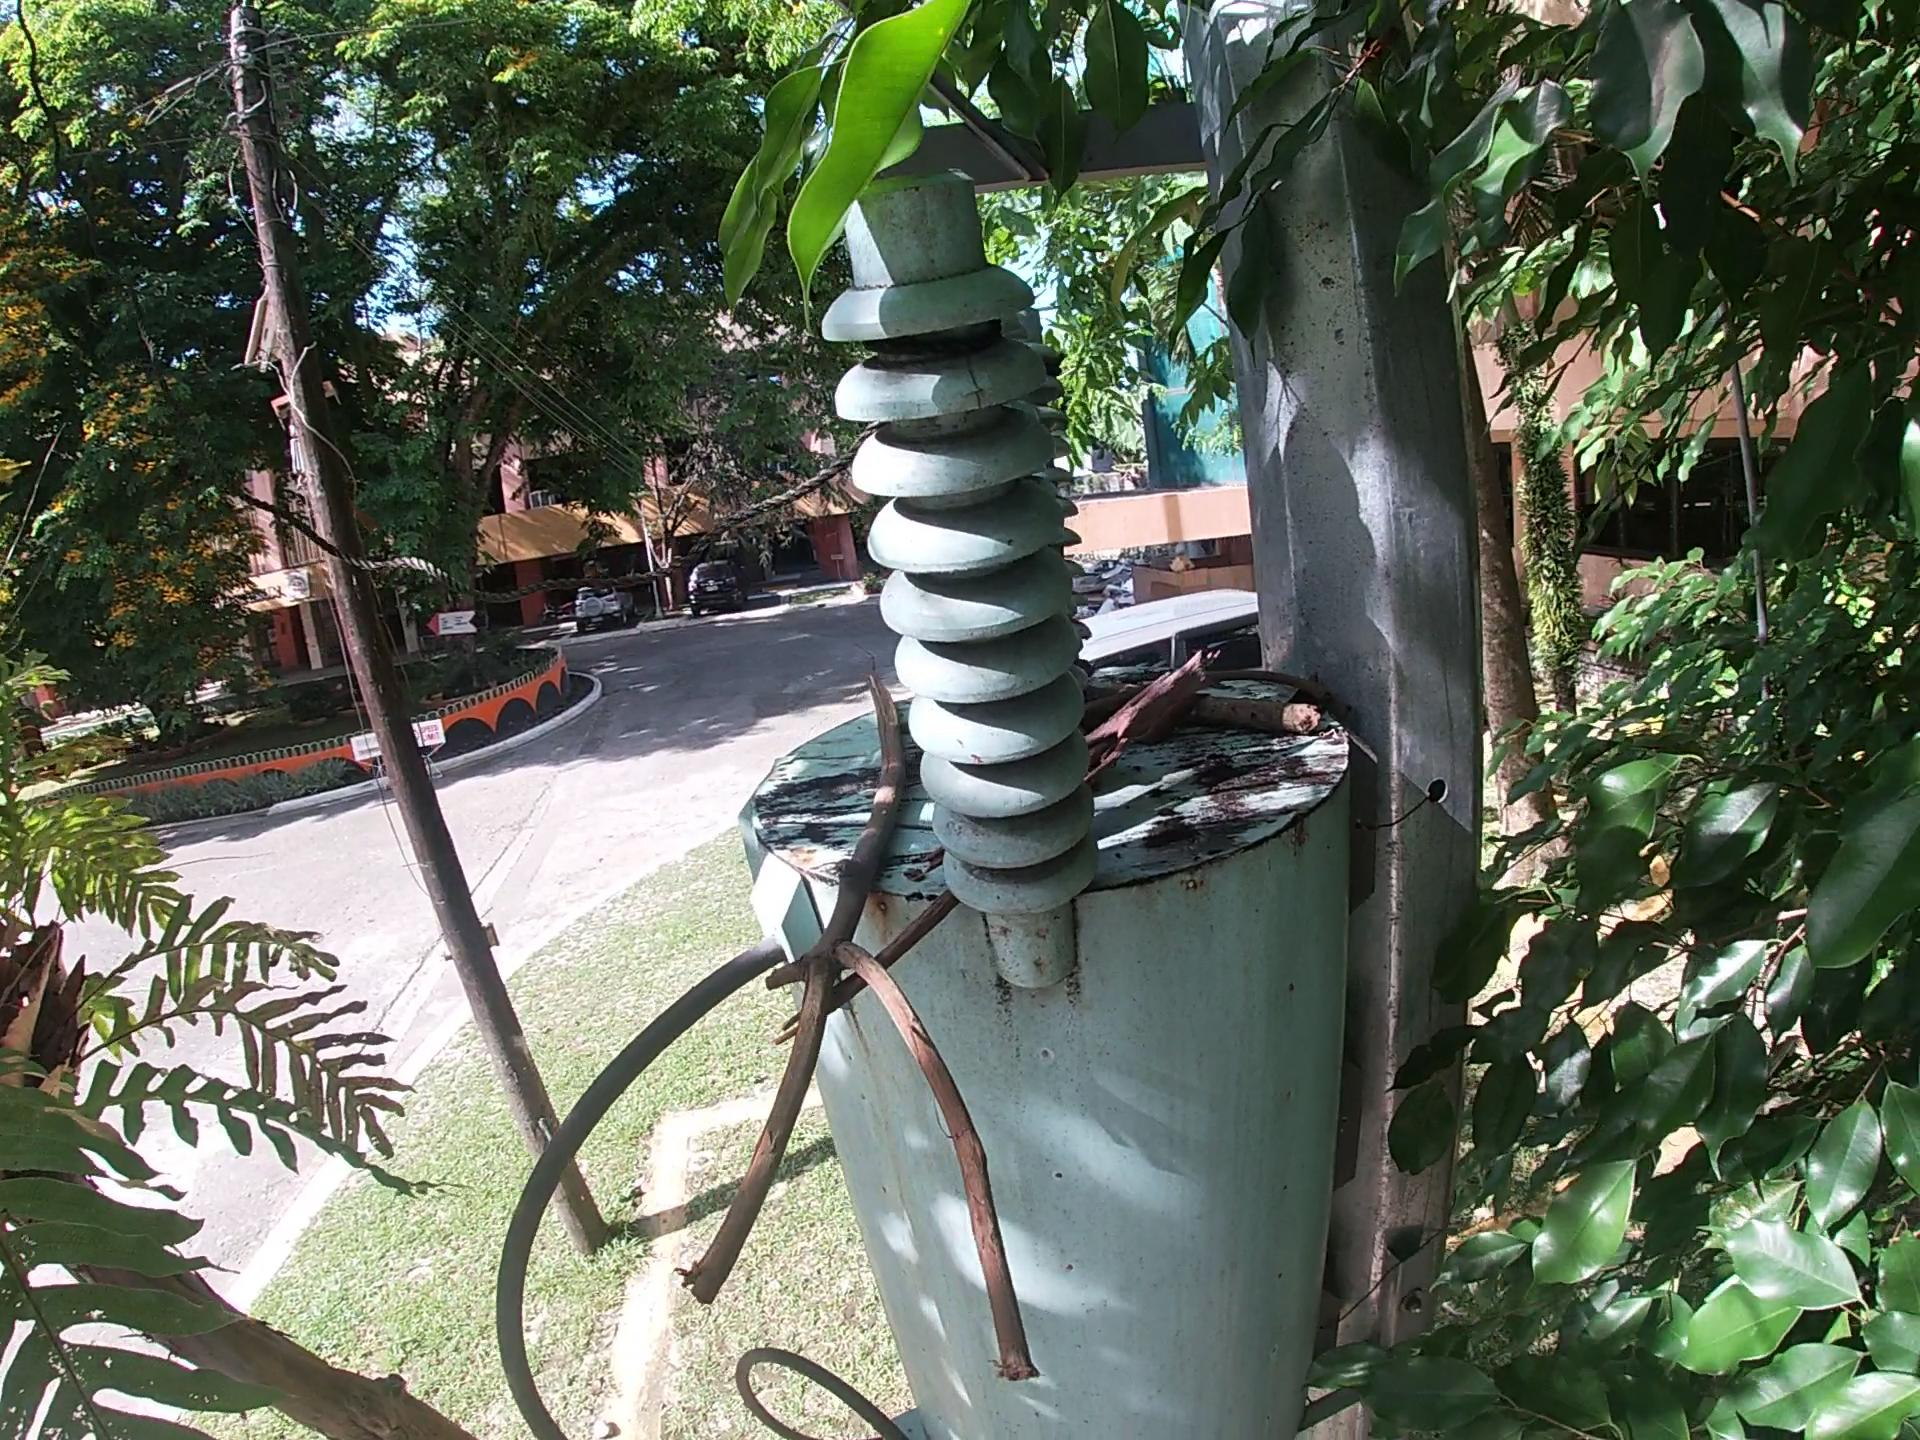leaf: (1138, 691, 1209, 752)
tree branch: (671, 667, 1048, 1387), (768, 885, 965, 1050), (1079, 641, 1223, 777), (1082, 682, 1324, 738), (1193, 663, 1346, 709)
